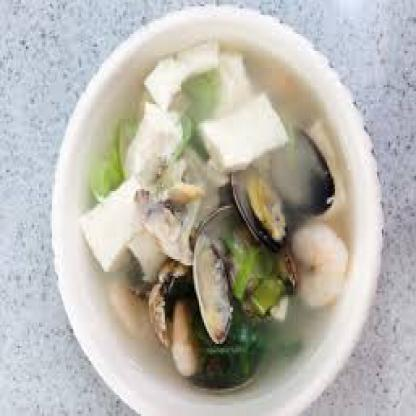shellfish soup: (79, 34, 356, 401)
